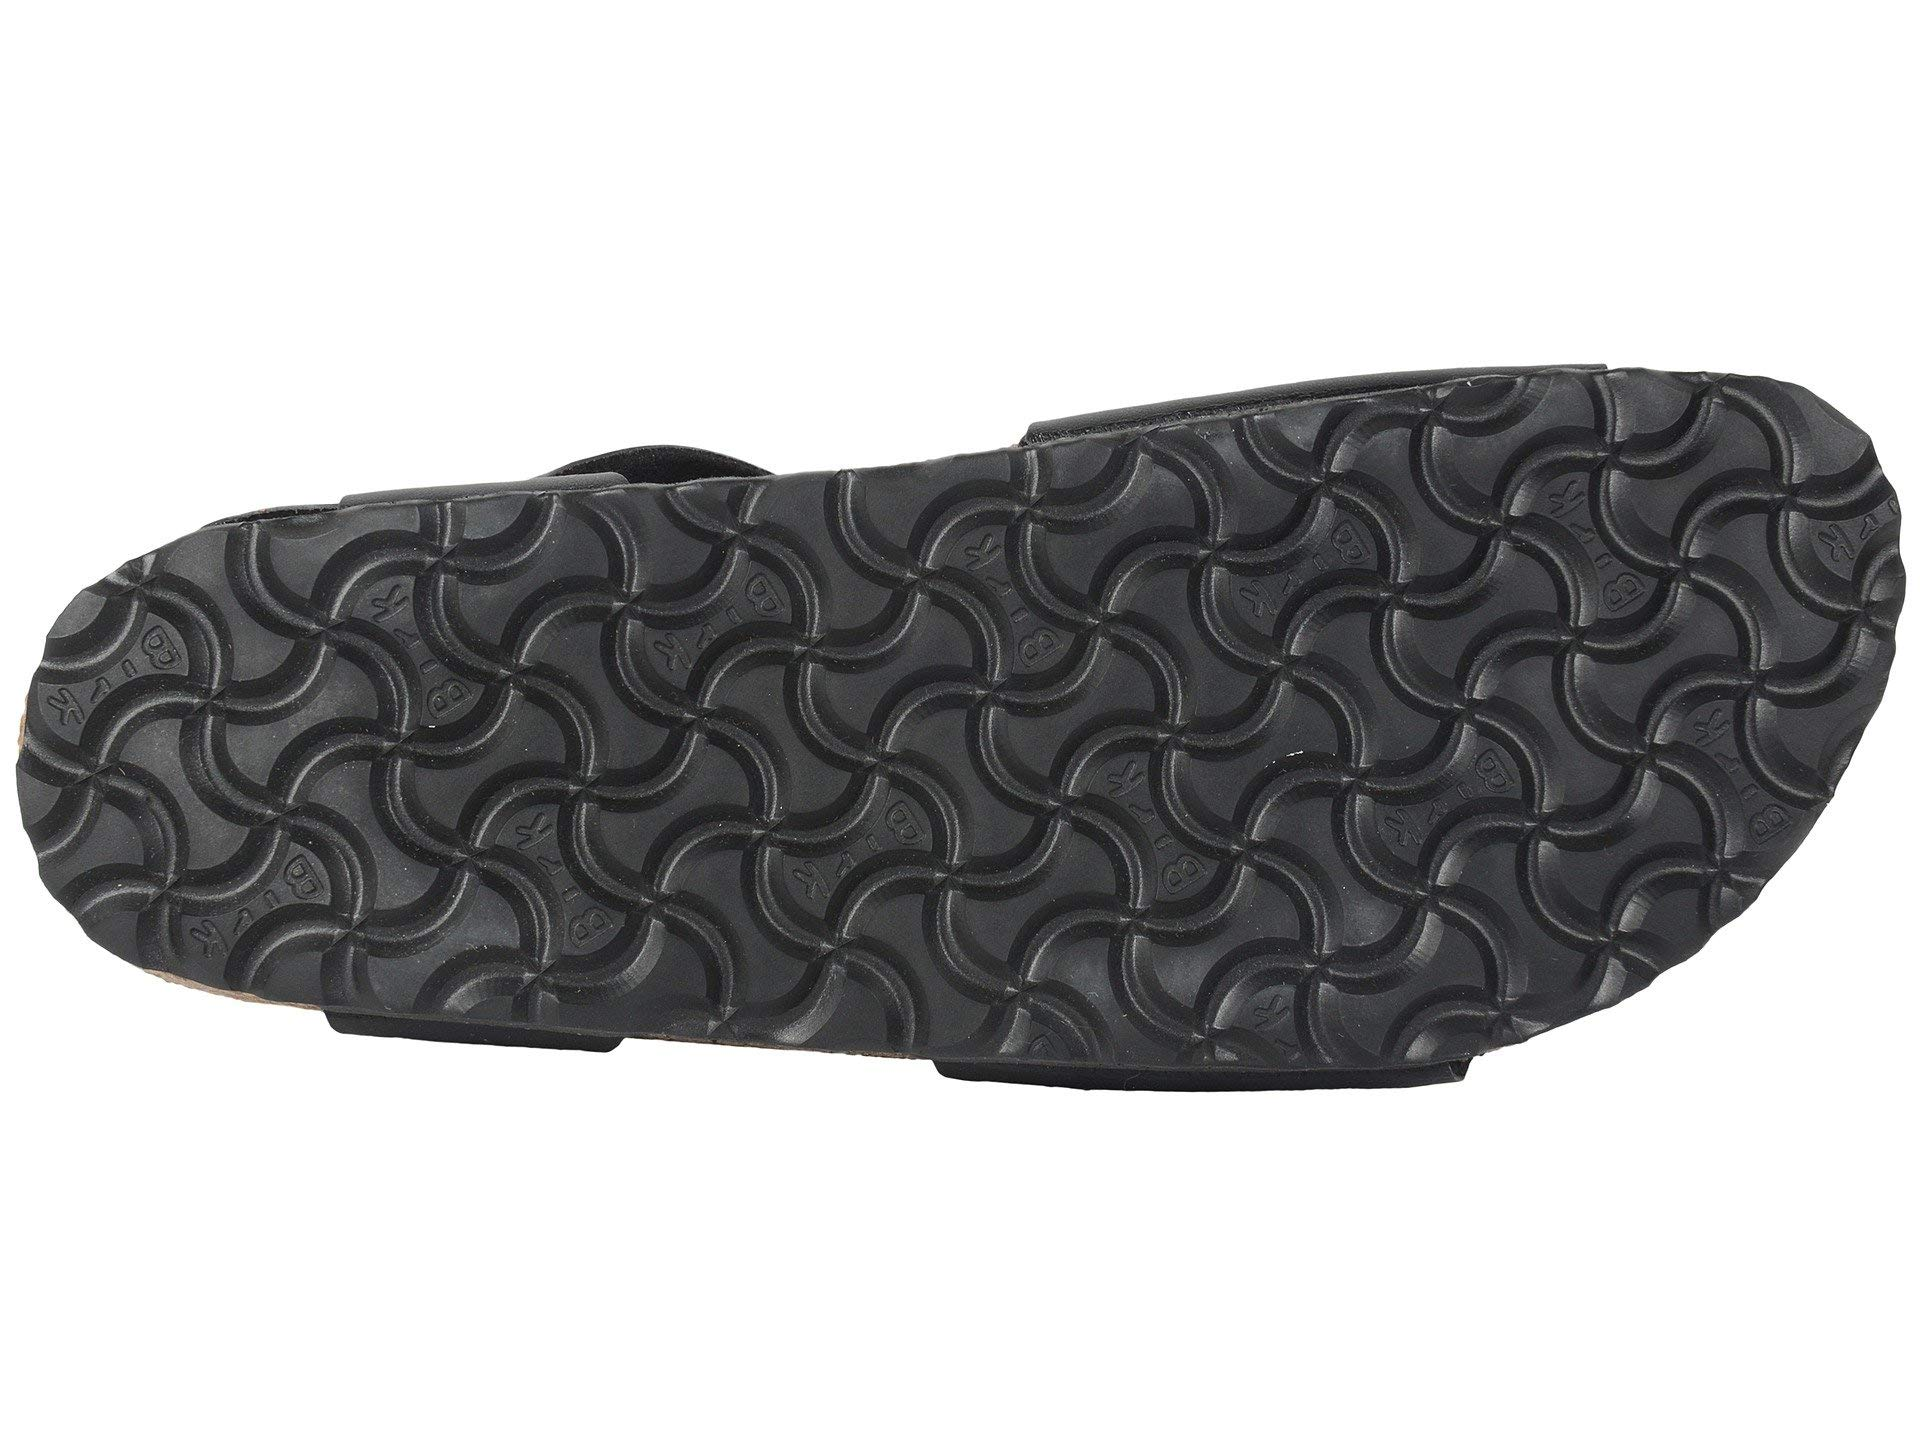bowtie: (547, 501, 1042, 1021), (1463, 402, 1879, 833), (153, 543, 525, 992), (1064, 448, 1451, 839), (1082, 849, 1368, 1088)
text: (547, 501, 1042, 1021), (1463, 402, 1879, 833), (153, 543, 525, 992), (1064, 448, 1451, 839), (1082, 849, 1368, 1088)
